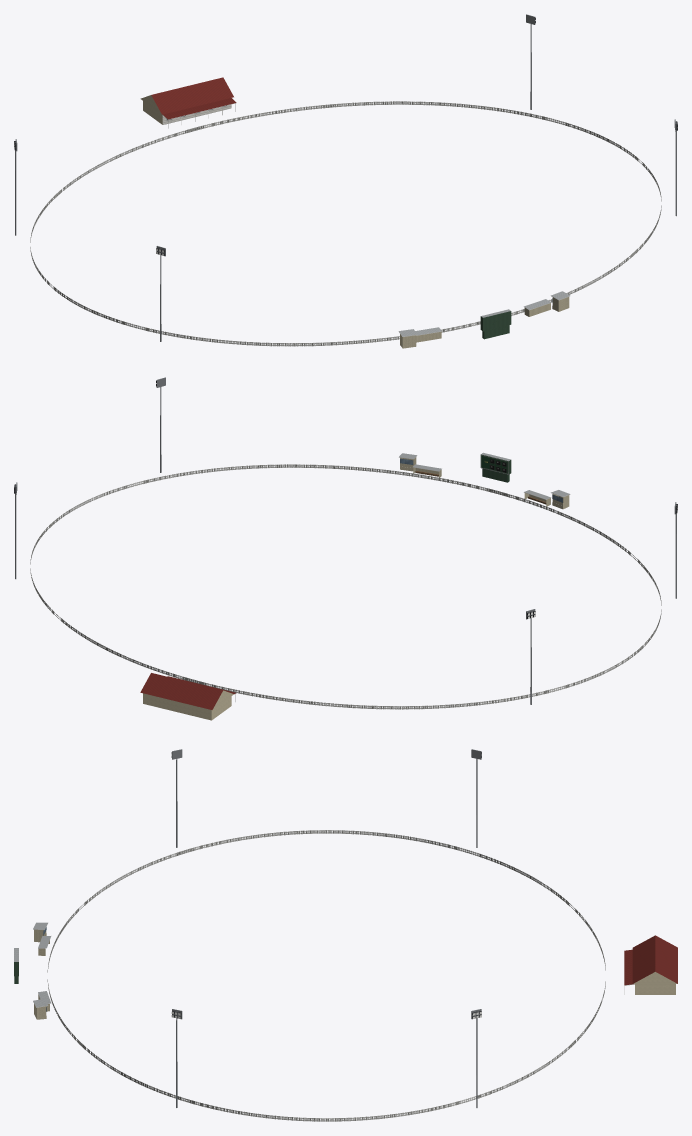
The model's file is oval_t2_banks.glb.
3 renders of one model, top to bottom at view 1: azimuth 30°, elevation 25°; view 2: azimuth 150°, elevation 25°; view 3: azimuth 270°, elevation 25°, orthographic. The views are drawn at different scales.
Visible parts, largest first — view 1: fence, buildings, boxes, lights, scoreboard; view 2: fence, buildings, boxes, lights, scoreboard; view 3: fence, buildings, lights, boxes.
Part boxes in pixels (x1,y1,x2,y2): fence: [30, 101, 661, 346]; buildings: [140, 77, 236, 128]; boxes: [398, 291, 570, 348]; lights: [14, 14, 677, 341]; scoreboard: [480, 309, 511, 339]; fence: [30, 464, 661, 709]; buildings: [140, 673, 236, 720]; boxes: [399, 453, 570, 509]; lights: [14, 377, 677, 704]; scoreboard: [480, 452, 511, 482]; fence: [47, 830, 605, 1121]; buildings: [624, 935, 677, 994]; lights: [171, 749, 481, 1107]; boxes: [33, 922, 51, 1019].
Size of what is drawn, in the model's own units: 166 by 26.2 by 162.
Materials: 13 (13 with a texture image).
